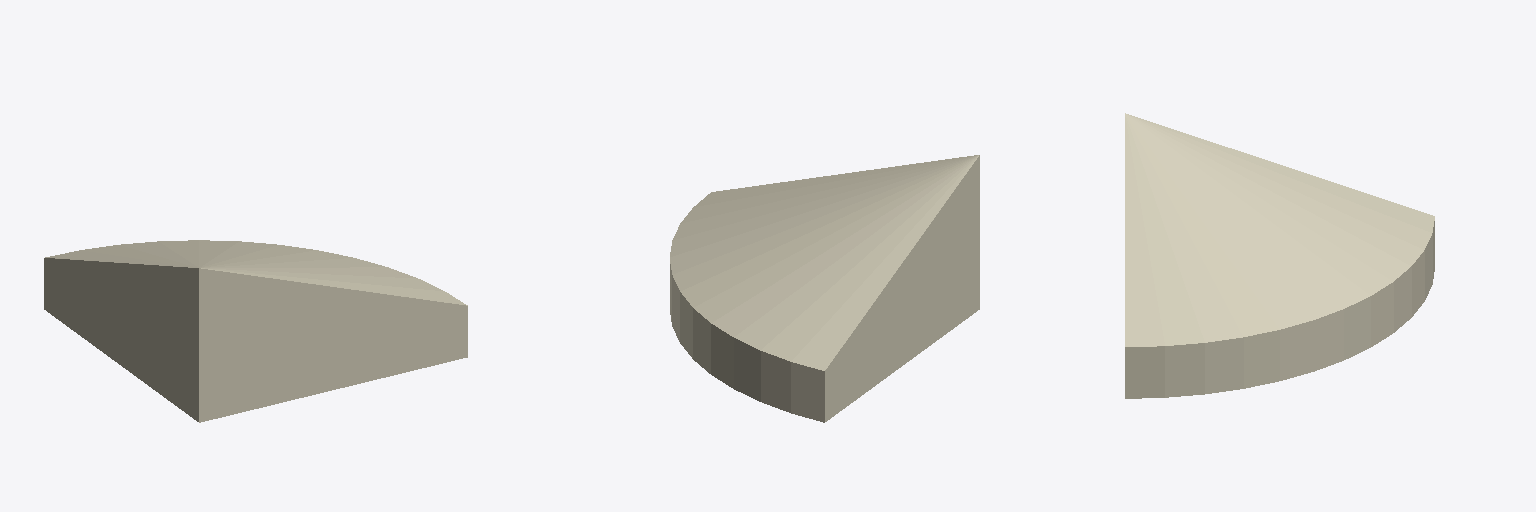
3 views of the same model, side by side, from view 1: azimuth 30°, elevation 25°; view 2: azimuth 150°, elevation 25°; view 3: azimuth 270°, elevation 25° (orthographic).
Visible parts, largest first — view 1: roadTile_010.001; view 2: roadTile_010.001; view 3: roadTile_010.001.
Boxes of the visible parts, x1=… form: roadTile_010.001: x1=44, y1=240, x2=467, y2=422; roadTile_010.001: x1=670, y1=155, x2=979, y2=422; roadTile_010.001: x1=1125, y1=113, x2=1434, y2=398.
Size of the model in its own units: 3 by 1.65 by 3.